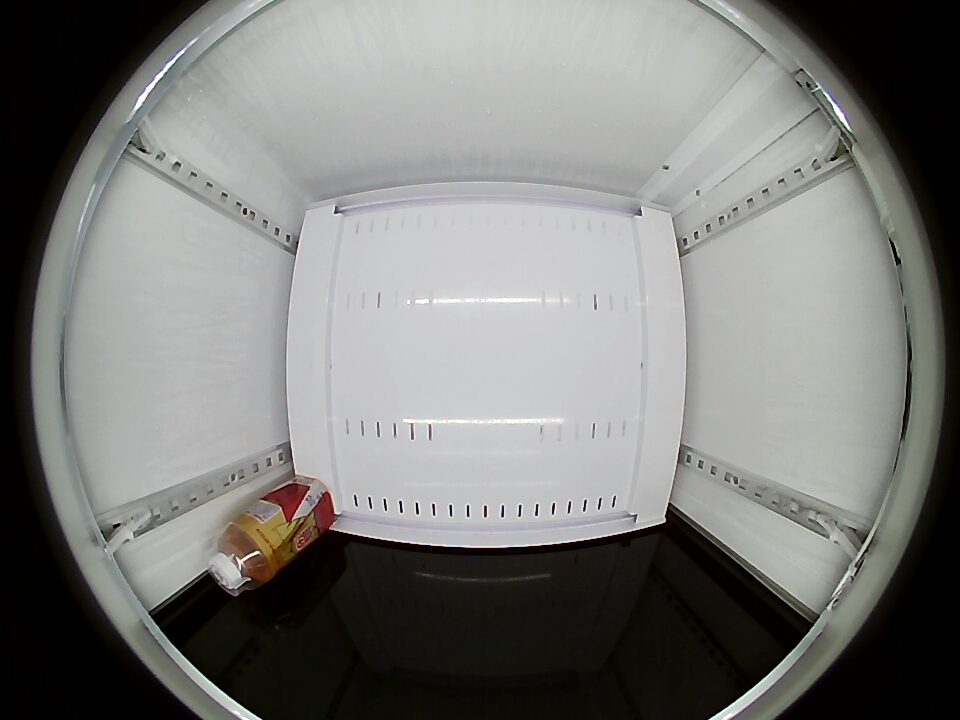dongpeng-b: (207, 514, 282, 596)
